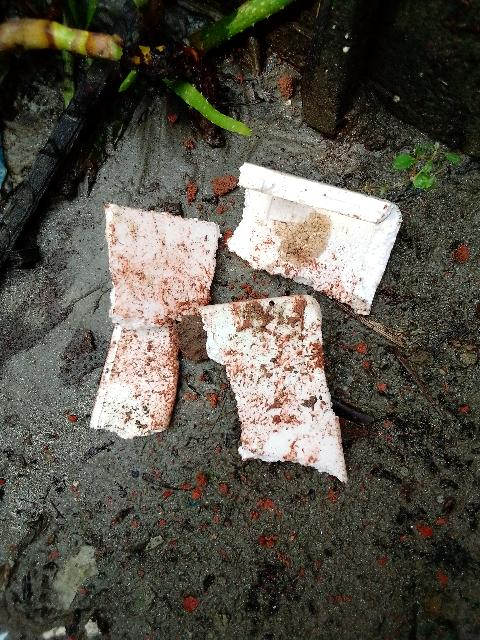cocksheet: (83, 212, 219, 447), (209, 294, 359, 486), (219, 165, 409, 316)
